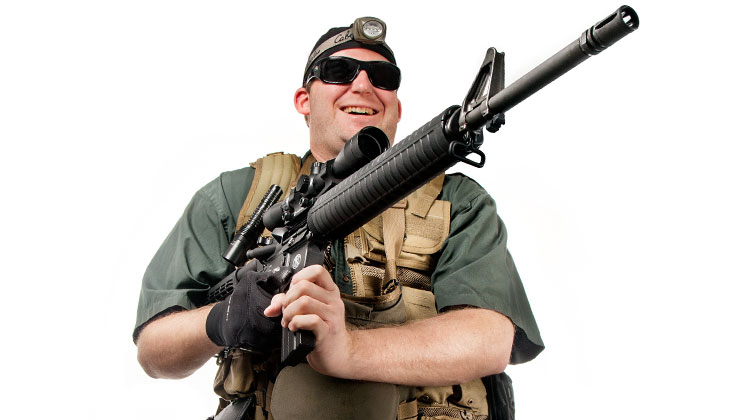Rifle: (226, 6, 640, 366)
